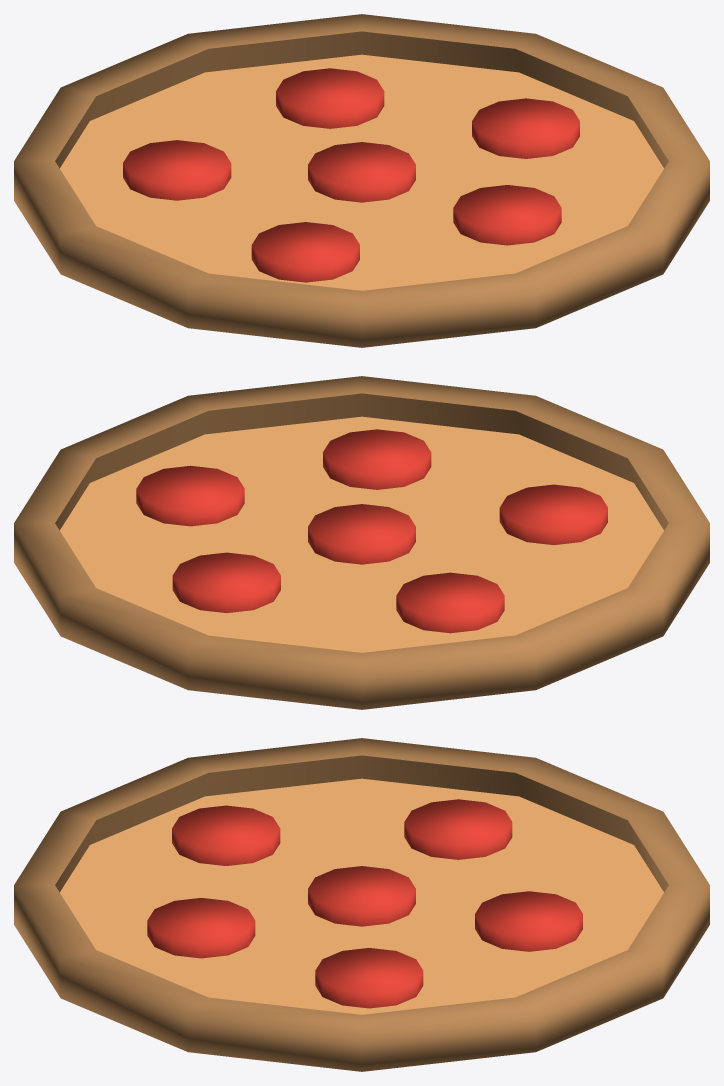
File: pizza.fbx
3 views of the same model, one above another, from view 1: azimuth 30°, elevation 25°; view 2: azimuth 150°, elevation 25°; view 3: azimuth 270°, elevation 25° (orthographic).
Visible parts, largest first — view 1: Circle; view 2: Circle; view 3: Circle.
Boxes of the visible parts, x1,y1,x2,y2 form: Circle: (14,14,709,347); Circle: (14,376,709,709); Circle: (14,738,709,1071).
Bounding box in the file's own units: 200 × 12.58 × 200.
